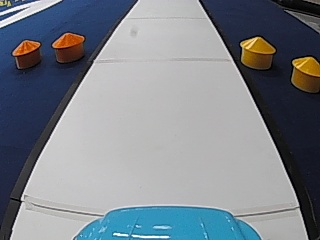granary: (238, 33, 276, 69), (288, 54, 320, 91), (50, 30, 85, 63), (10, 37, 40, 68)
